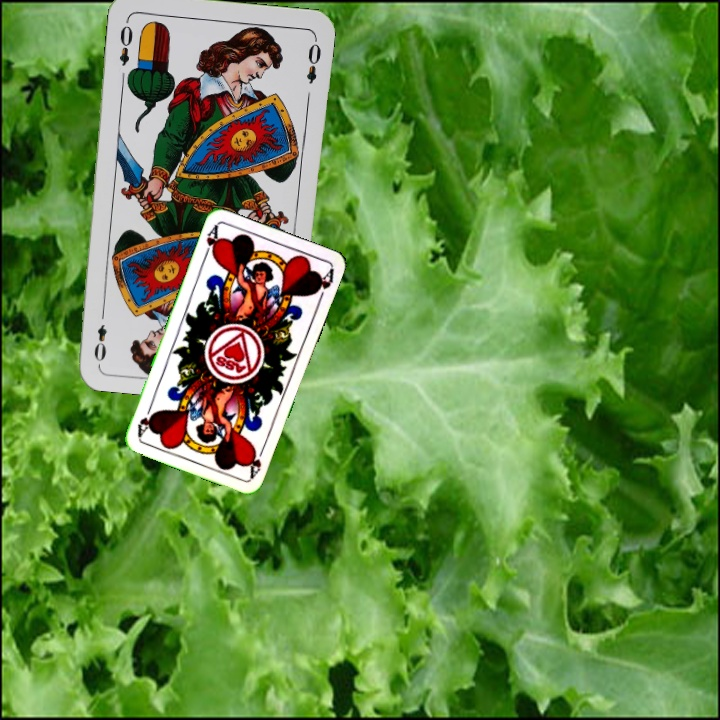EO: (114, 21, 136, 68)
HA: (245, 441, 268, 480), (200, 221, 222, 261)
